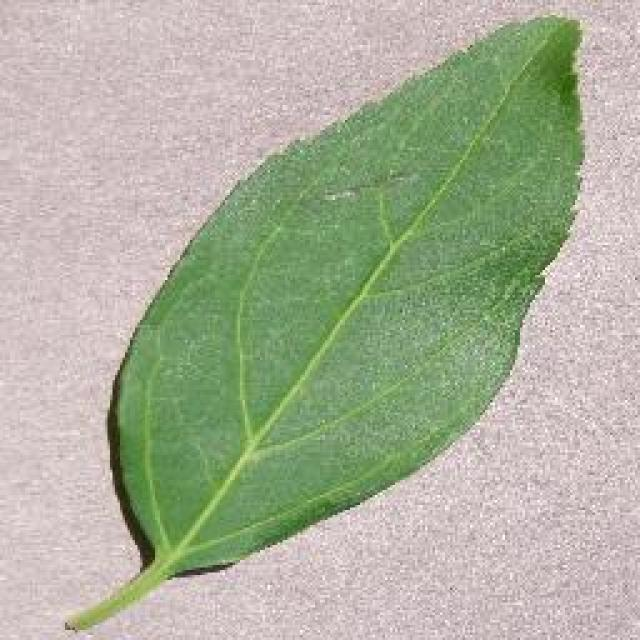Cherry___healthy: (52, 8, 602, 638)
